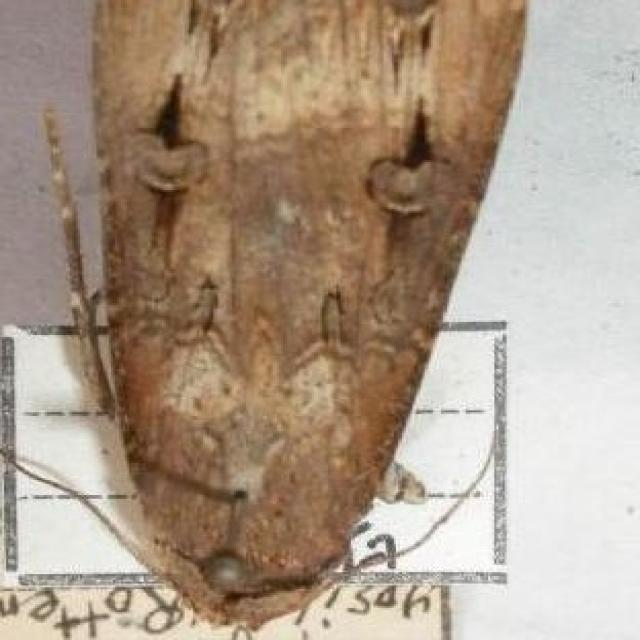black cutworm: (21, 1, 540, 626)
